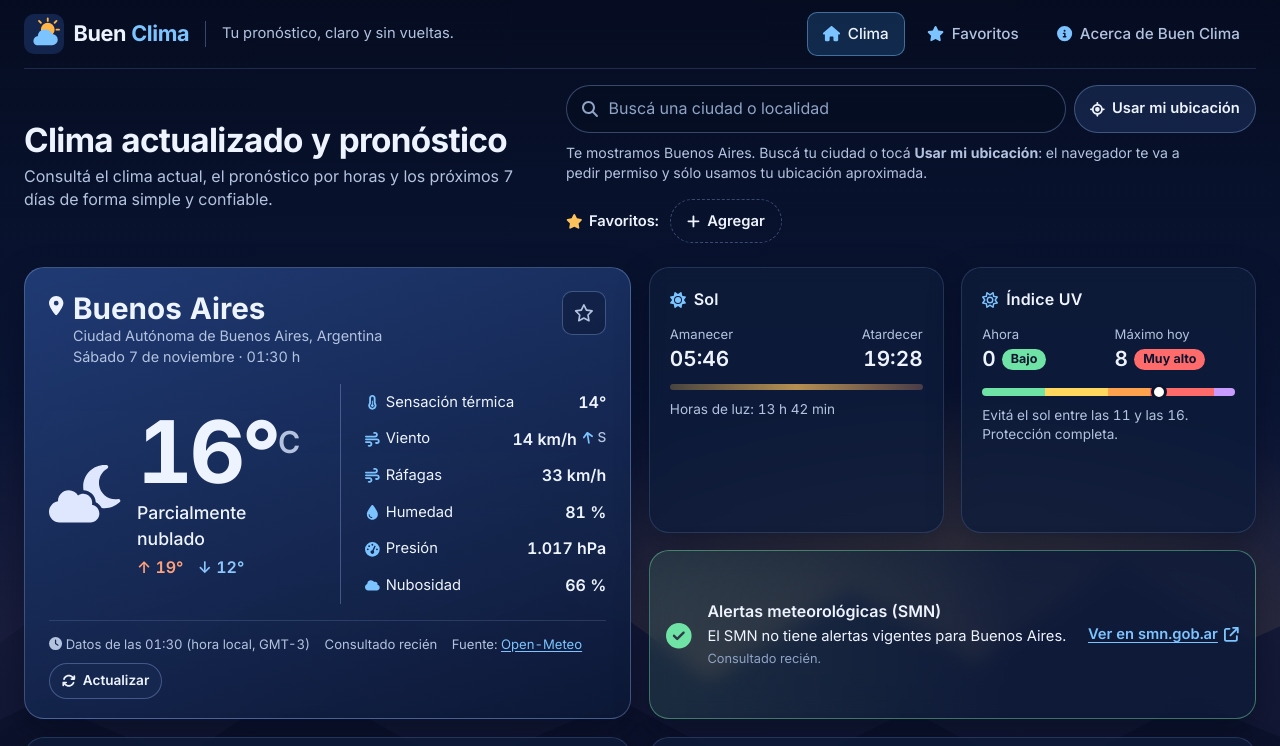
Test: App › geolocalización concedida: consulta con coordenadas redondeadas
The width and height of the screenshot is (1280, 746).
Expected: the heading "Buenos Aires" is shown, [73,290,266,326]
Click the button "Usar mi ubicación": (1165, 109) [1074,85,1256,133]
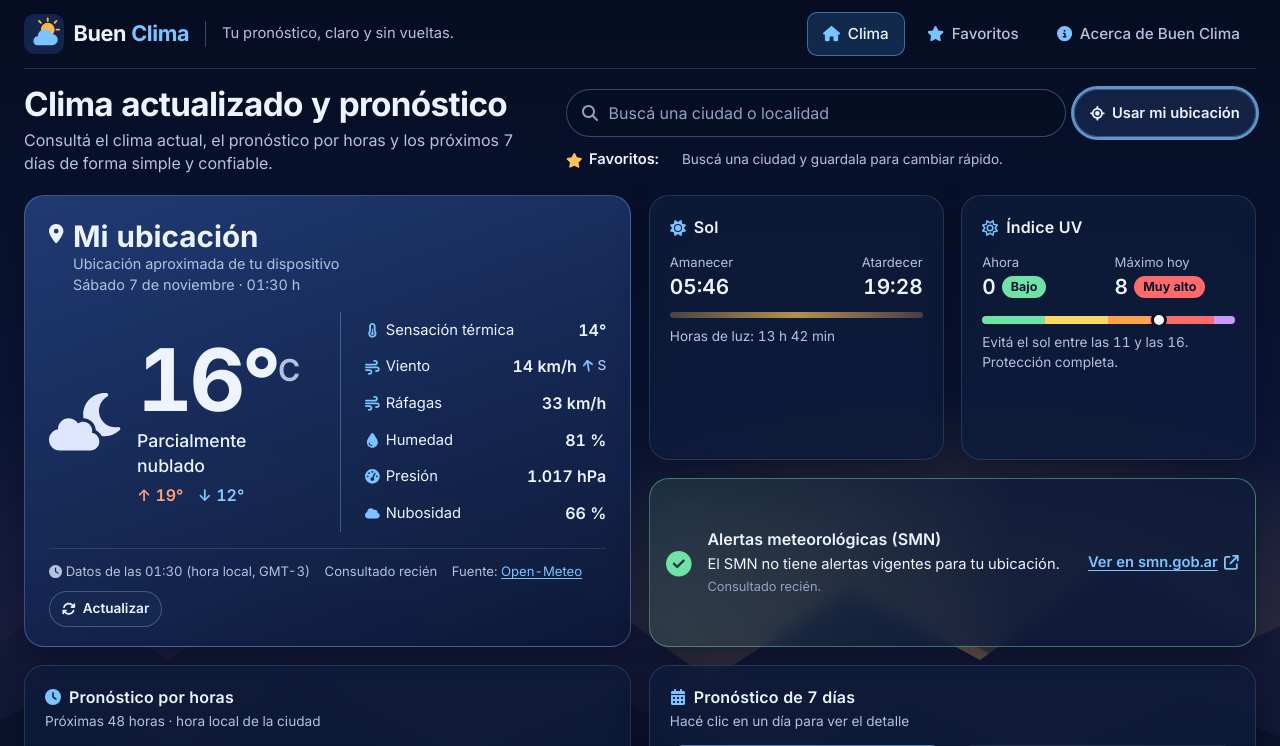
Result: the heading "Mi ubicación" is shown at [73,218,258,254]
